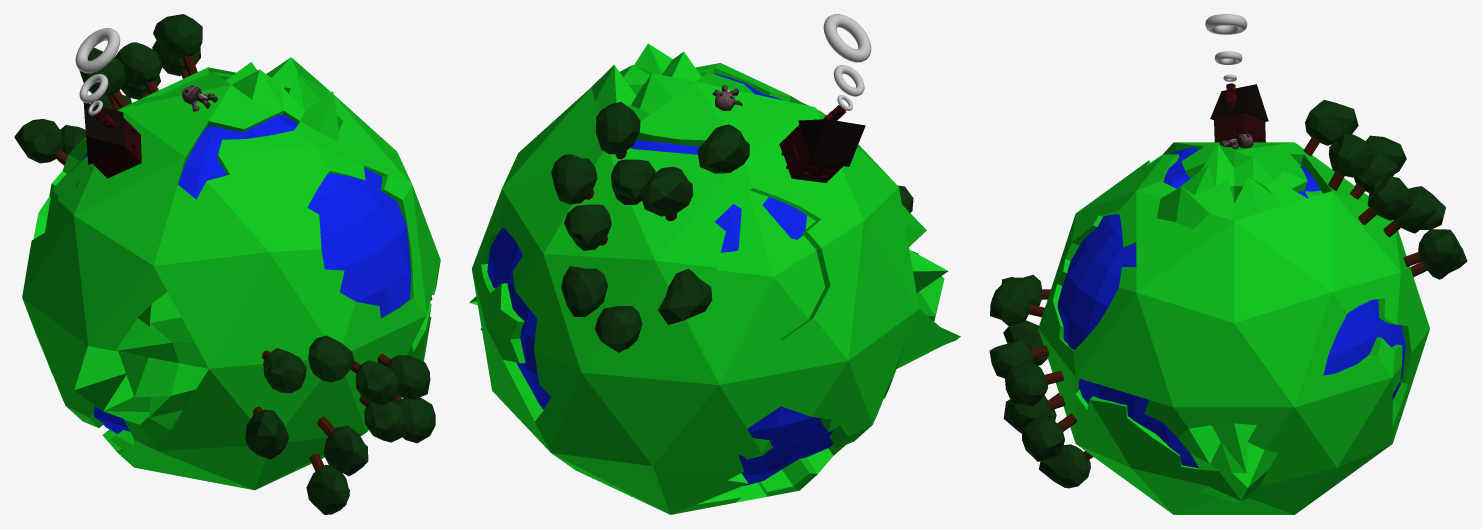
File: Sackboy_littlebigplanet.FBX
3 views of the same model, side by side, from view 1: azimuth 30°, elevation 25°; view 2: azimuth 150°, elevation 25°; view 3: azimuth 270°, elevation 25° (orthographic). The views are drawn at different scales.
Parts seen in each view (by area): view 1: Icosphere, Sphere, Icosphere.004, Cylinder.001, Icosphere.011, Icosphere.017, Icosphere.016, Icosphere.008, Icosphere.014, Icosphere.012, Icosphere.018, Icosphere.006 (+9 smaller); view 2: Icosphere, Sphere, Cylinder.001, Icosphere.008, Icosphere.002, Icosphere.005, Icosphere.004, Icosphere.007, Icosphere.001, Icosphere.003, Icosphere.009, Cube (+3 smaller); view 3: Icosphere, Sphere, Icosphere.005, Icosphere.004, Icosphere.001, Icosphere.014, Icosphere.010, Icosphere.007, Icosphere.013, Icosphere.016, Cube, Cylinder.001 (+8 smaller).
Part boxes in pixels (left/top/right/bottom): Icosphere: left=22, top=57, right=440, bottom=490; Sphere: left=76, top=114, right=410, bottom=433; Icosphere.004: left=153, top=14, right=202, bottom=58; Cylinder.001: left=83, top=102, right=125, bottom=164; Icosphere.011: left=323, top=426, right=368, bottom=476; Icosphere.017: left=245, top=409, right=288, bottom=459; Icosphere.016: left=308, top=335, right=354, bottom=382; Icosphere.008: left=14, top=119, right=63, bottom=163; Icosphere.014: left=306, top=464, right=349, bottom=514; Icosphere.012: left=355, top=360, right=398, bottom=405; Icosphere.018: left=263, top=348, right=306, bottom=393; Icosphere.006: left=115, top=42, right=162, bottom=86; Icosphere: left=469, top=43, right=960, bottom=514; Sphere: left=487, top=73, right=834, bottom=485; Cylinder.001: left=798, top=119, right=865, bottom=166; Icosphere.008: left=658, top=268, right=712, bottom=324; Icosphere.002: left=639, top=166, right=693, bottom=216; Icosphere.005: left=697, top=124, right=749, bottom=173; Icosphere.004: left=596, top=102, right=640, bottom=154; Icosphere.007: left=561, top=266, right=607, bottom=317; Icosphere.001: left=551, top=154, right=597, bottom=204; Icosphere.003: left=564, top=204, right=611, bottom=250; Icosphere.009: left=595, top=306, right=642, bottom=352; Cube: left=779, top=125, right=843, bottom=182; Icosphere: left=1038, top=142, right=1429, bottom=514; Sphere: left=1057, top=147, right=1405, bottom=468; Icosphere.005: left=1305, top=100, right=1358, bottom=145; Icosphere.004: left=1328, top=134, right=1374, bottom=177; Icosphere.001: left=1367, top=176, right=1412, bottom=220; Icosphere.014: left=1039, top=444, right=1090, bottom=488; Icosphere.010: left=1005, top=363, right=1047, bottom=405; Icosphere.007: left=1418, top=229, right=1460, bottom=271; Icosphere.013: left=1021, top=416, right=1064, bottom=461; Icosphere.016: left=990, top=280, right=1031, bottom=326; Cube: left=1214, top=112, right=1265, bottom=142; Cylinder.001: left=1210, top=84, right=1268, bottom=121.
Bounding box in the file's own units: 917 × 1029 × 1022.
11 materials, 3 textured.
